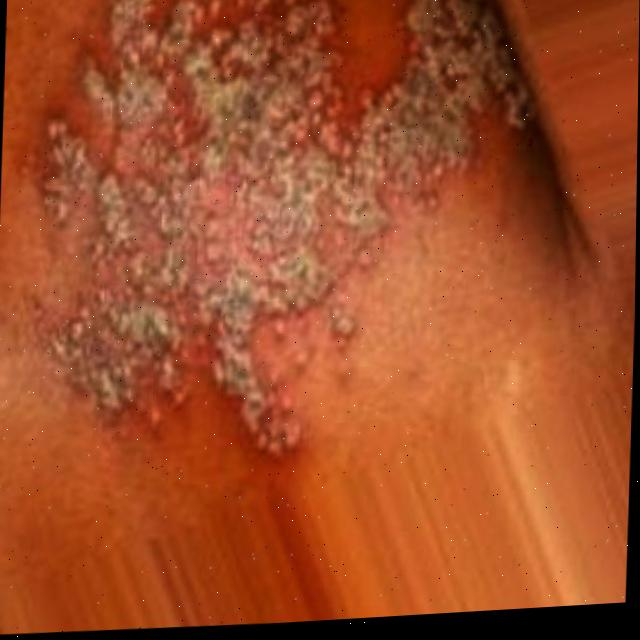Shingles: (17, 0, 551, 484)
